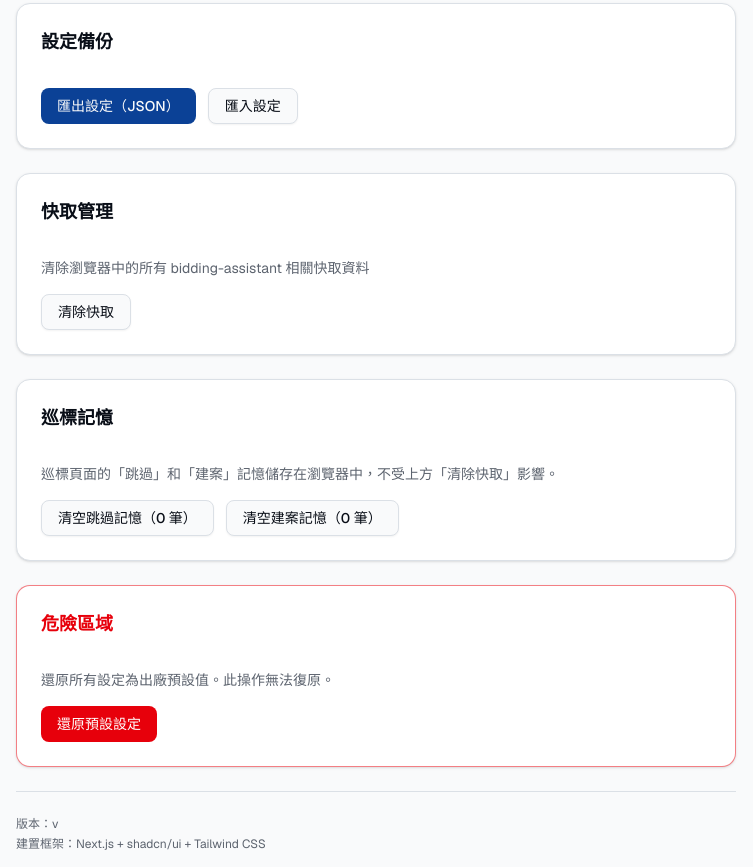
Test: MaintenancePage — 還原預設設定（二步確認） › 第二次點擊後按鈕文字回到「還原預設設定」
(page scrolled)
Click the button "還原預設設定" at [99, 724], box left=41, top=706, right=157, bottom=742
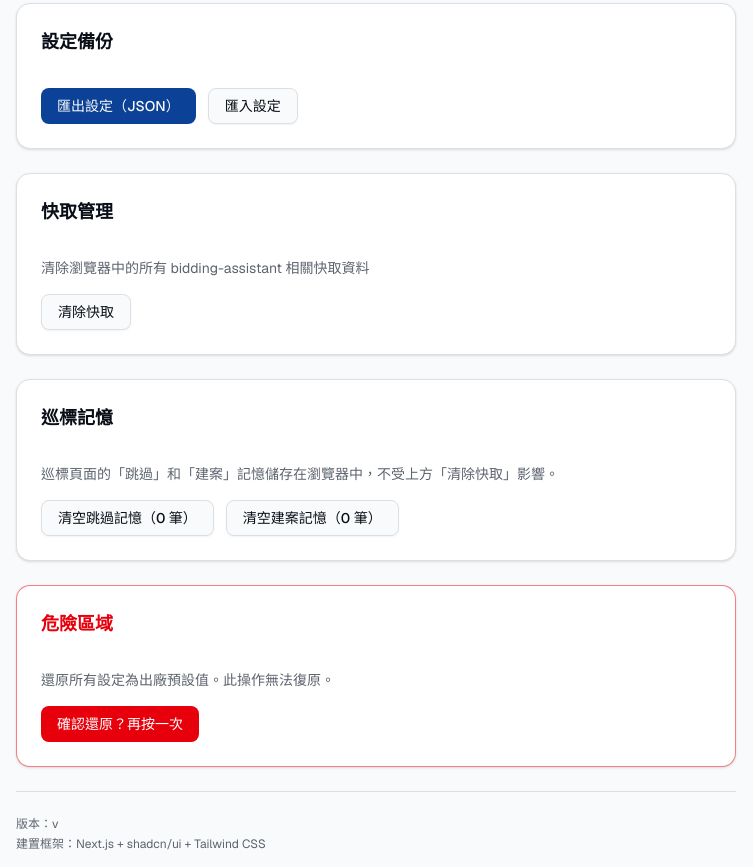
Click the button "確認還原？再按一次" at [120, 724], box left=41, top=706, right=199, bottom=742
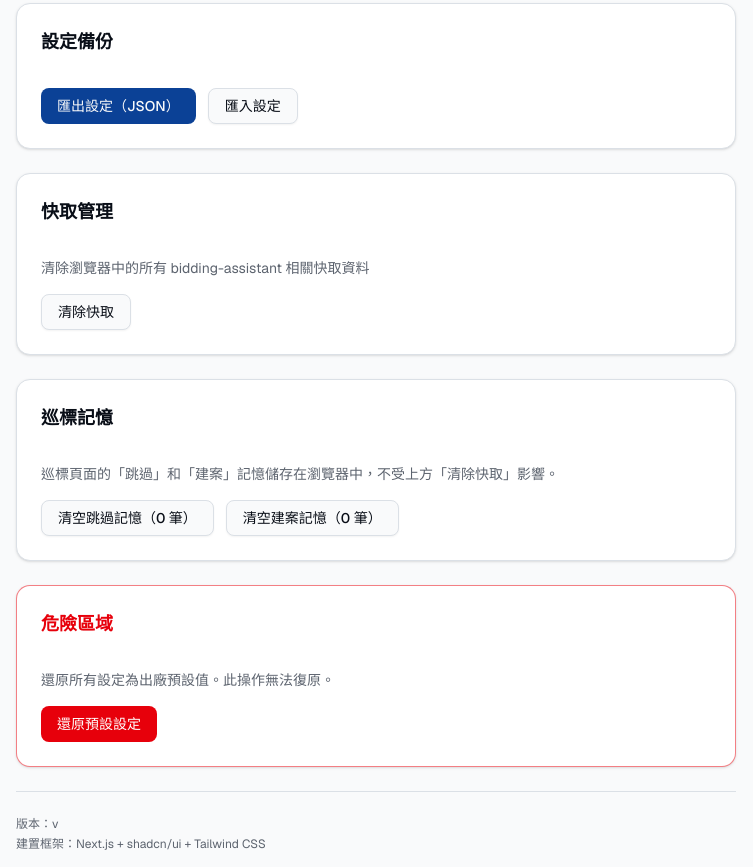
Now the button "還原預設設定" is shown, box left=41, top=706, right=157, bottom=742
